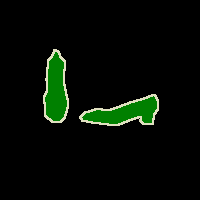shoe: (80, 94, 158, 125), (44, 50, 68, 122)
